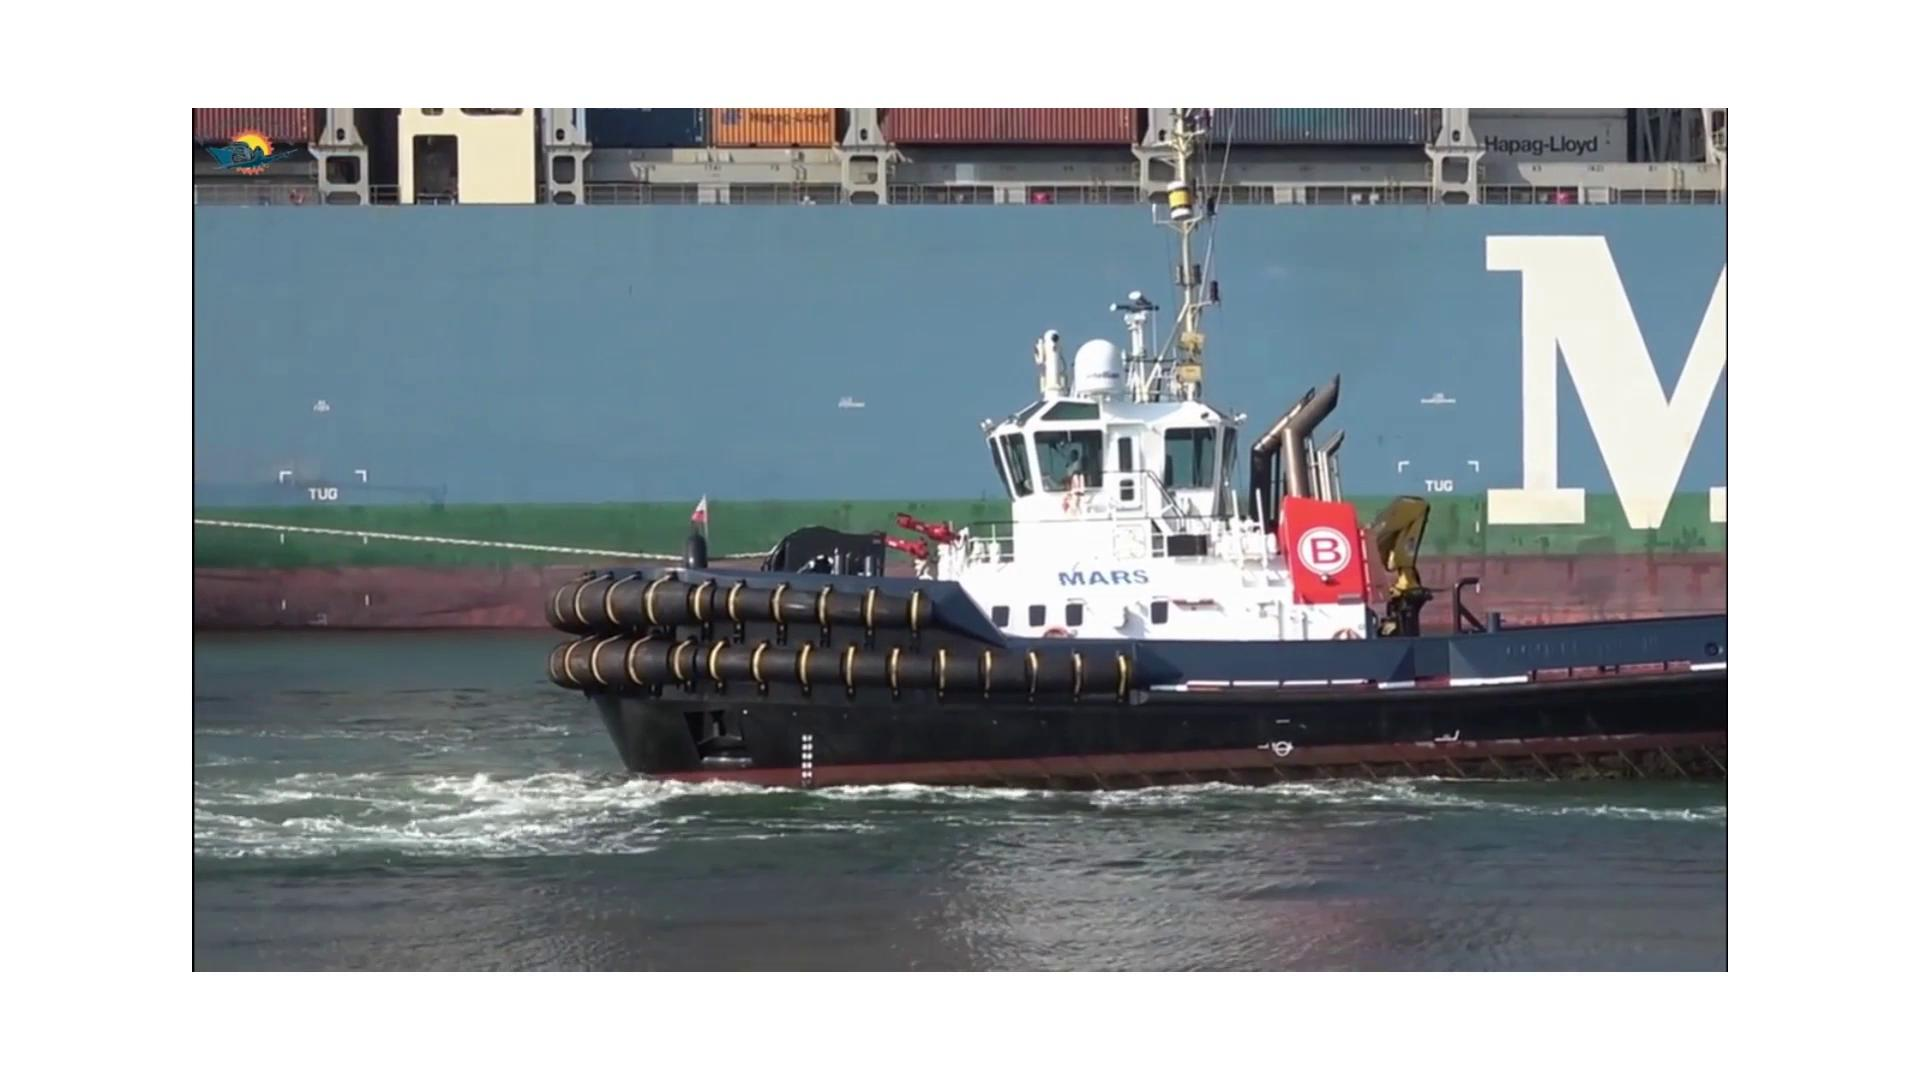OCR: (1052, 560, 1178, 592)
